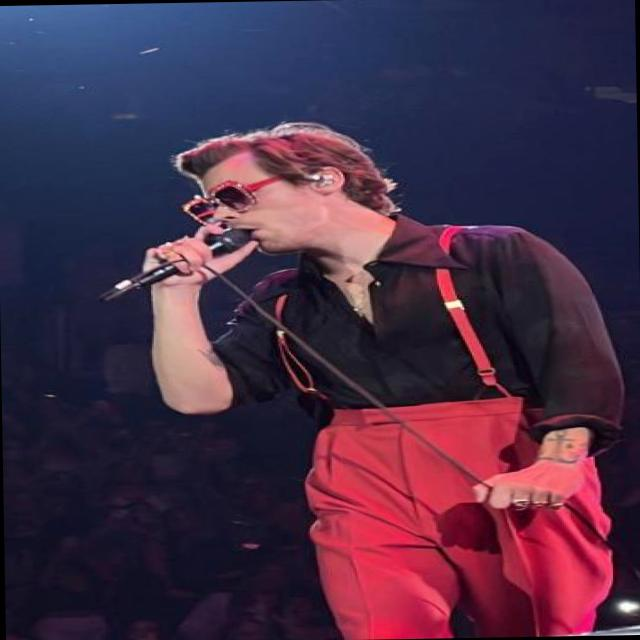glasses: (182, 168, 282, 224)
